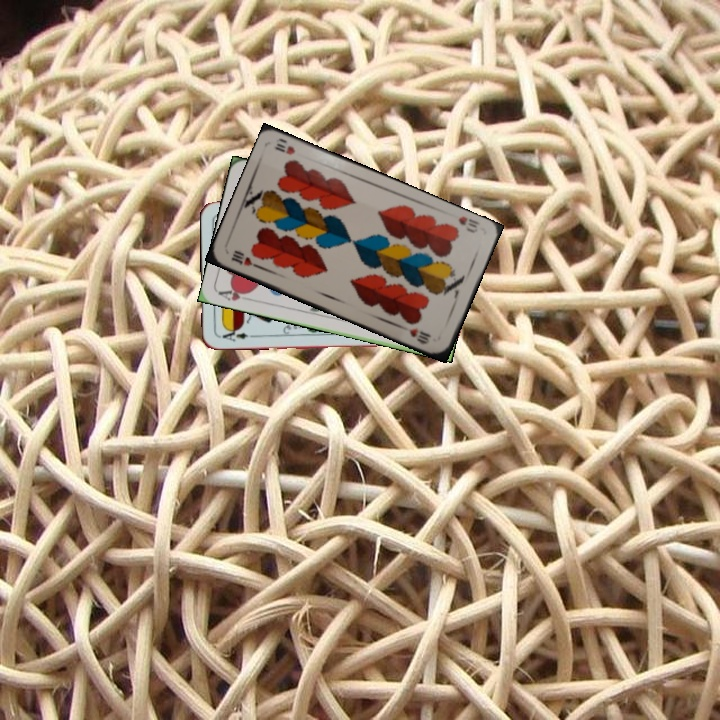EA: (216, 325, 256, 344)
H10: (227, 246, 263, 271), (454, 212, 482, 236)
HA: (215, 284, 255, 303)
